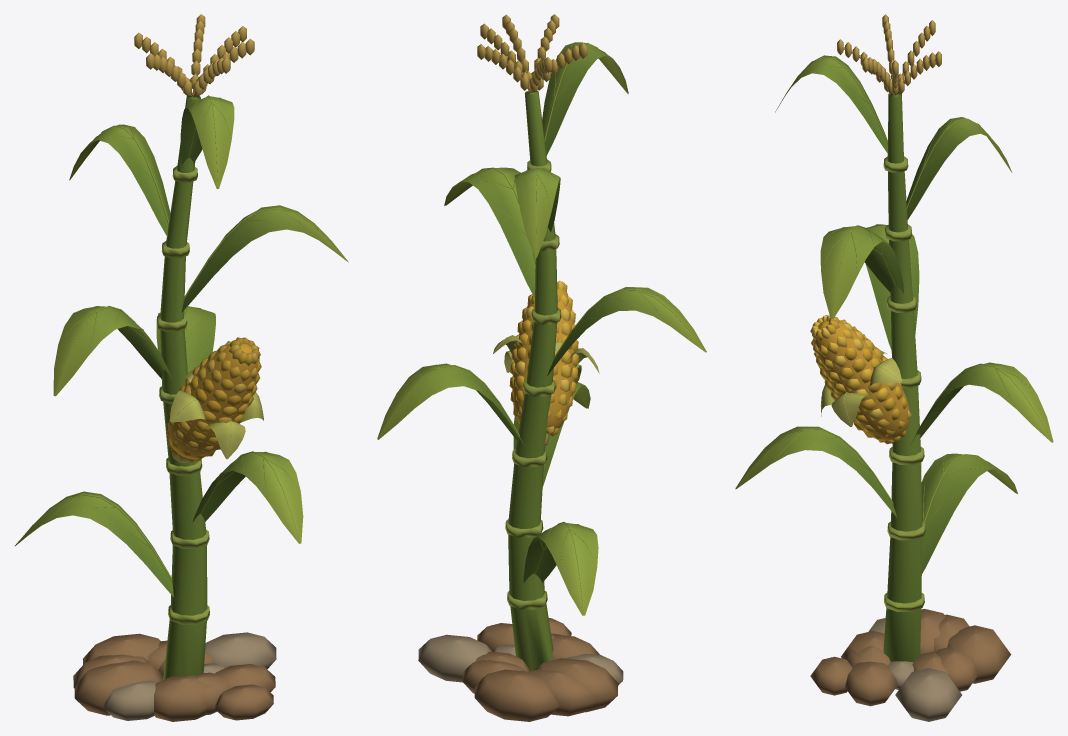
Rendered from corn_plant_ripe.glb.
3 views of the same model, side by side, from view 1: azimuth 30°, elevation 25°; view 2: azimuth 150°, elevation 25°; view 3: azimuth 270°, elevation 25° (orthographic). The views are drawn at different scales.
Parts seen in each view (by area): view 1: Plant, Harvestable_corn; view 2: Plant, Harvestable_corn; view 3: Plant, Harvestable_corn.
Part boxes in pixels (x1,y1,x2,y2): Plant: [15, 14, 348, 721]; Harvestable_corn: [166, 337, 263, 462]; Plant: [377, 14, 706, 721]; Harvestable_corn: [493, 280, 599, 445]; Plant: [735, 14, 1053, 721]; Harvestable_corn: [810, 315, 911, 444].
Bounding box in the file's own units: 0.8106 × 1.83 × 0.8109.
